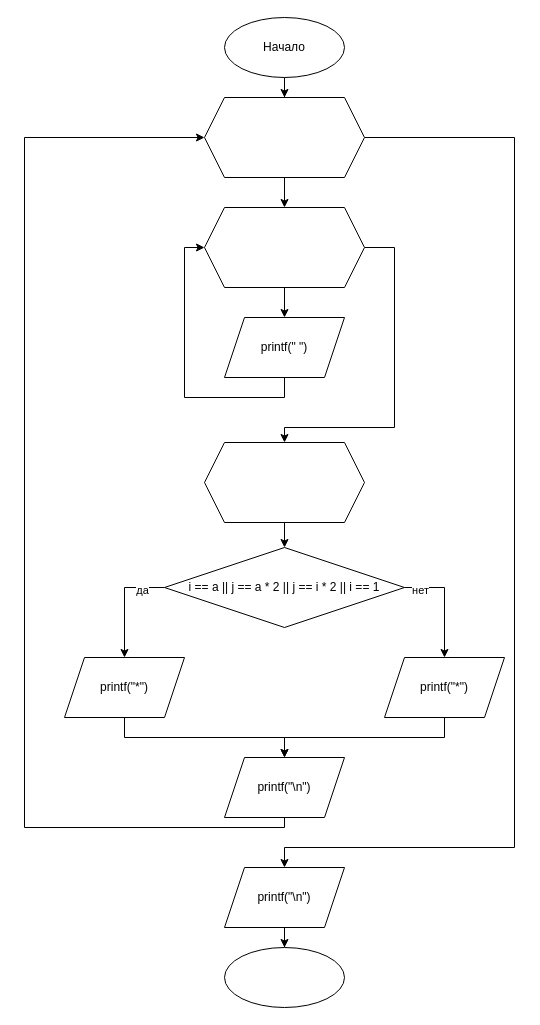
Image size: 540x1025. Some labels were removed from this diagram. Each missing label, with the centre of its shape:
i = a, k = a; i > 0; i--, k--: point 284,137
j = a * 2; j >= i * 2; j--: point 284,482
j = k; j > 1; j--: point 284,247
Конец: point 284,977
